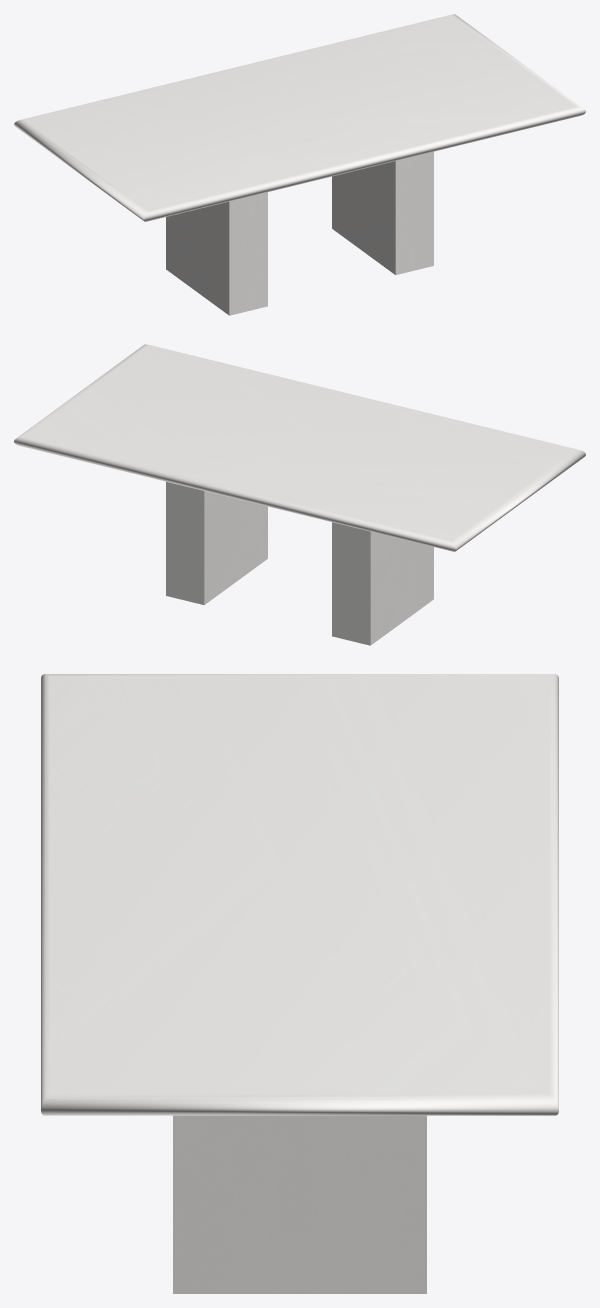
The model's file is purewhite_recta_round_ridge.glb.
3 views of the same model, one above another, from view 1: azimuth 30°, elevation 25°; view 2: azimuth 150°, elevation 25°; view 3: azimuth 270°, elevation 25° (orthographic). The views are drawn at different scales.
Parts seen in each view (by area): view 1: round_recta, ridge; view 2: round_recta, ridge; view 3: round_recta, ridge.
Boxes of the visible parts, <box> form: round_recta: <box>14,14,585,221</box>; ridge: <box>166,151,433,315</box>; round_recta: <box>14,344,585,551</box>; ridge: <box>166,481,433,645</box>; round_recta: <box>41,674,558,1115</box>; ridge: <box>173,1115,426,1293</box>.
Bounding box in the file's own units: 7.5 × 2.5 × 3.8.
1 material, 1 textured.
